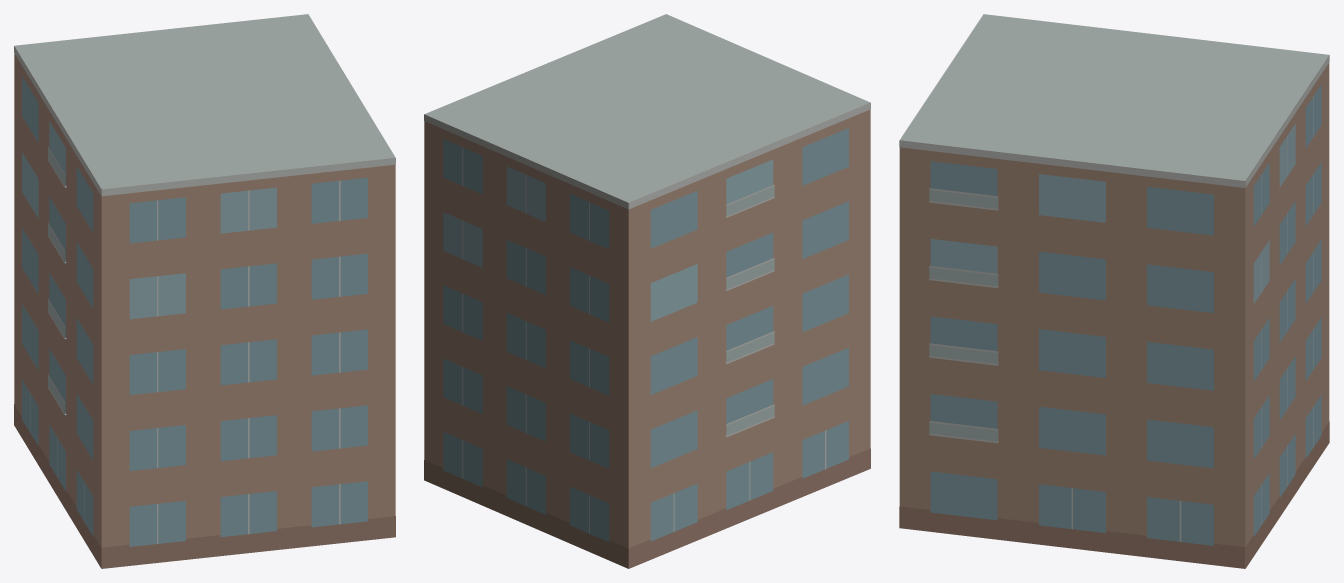
The model's file is survey-upis-32872532.glb.
The picture shows the model from 3 angles, left to right: view 1: azimuth 30°, elevation 25°; view 2: azimuth 150°, elevation 25°; view 3: azimuth 270°, elevation 25°; orthographic projection. The views are drawn at different scales.
Parts seen in each view (by area): view 1: survey-upis-32872532.tmp; view 2: survey-upis-32872532.tmp; view 3: survey-upis-32872532.tmp.
Part boxes in pixels (x1=…): survey-upis-32872532.tmp: x1=14, y1=14, x2=395, y2=568; survey-upis-32872532.tmp: x1=424, y1=14, x2=870, y2=568; survey-upis-32872532.tmp: x1=899, y1=14, x2=1329, y2=568.
Size of the model in its own units: 12.48 by 13.5 by 13.58.
